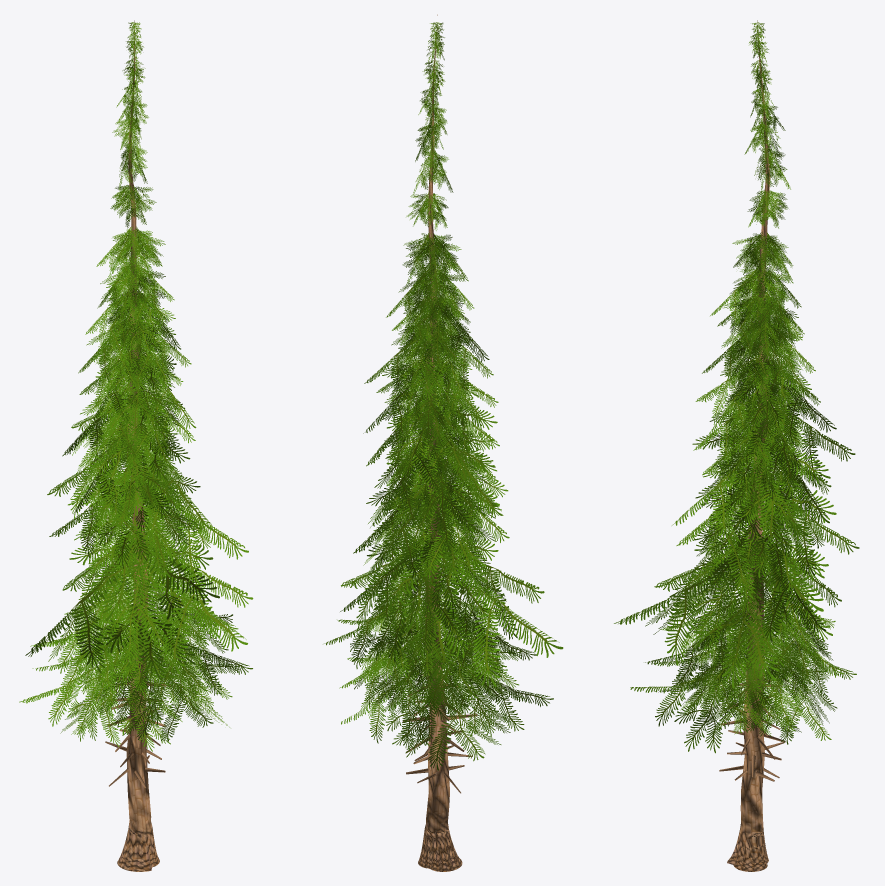
The model's file is spruce_trees.002.glb.
3 views of the same model, side by side, from view 1: azimuth 30°, elevation 25°; view 2: azimuth 150°, elevation 25°; view 3: azimuth 270°, elevation 25° (orthographic).
Parts seen in each view (by area): view 1: spruce_trees.002; view 2: spruce_trees.002; view 3: spruce_trees.002.
Part boxes in pixels (x1,y1,x2,y2): spruce_trees.002: (19, 20, 253, 871); spruce_trees.002: (324, 14, 563, 871); spruce_trees.002: (614, 20, 859, 871).
Size of the model in its own units: 6.21 by 21.31 by 6.03.
Materials: 1 (1 with a texture image).
